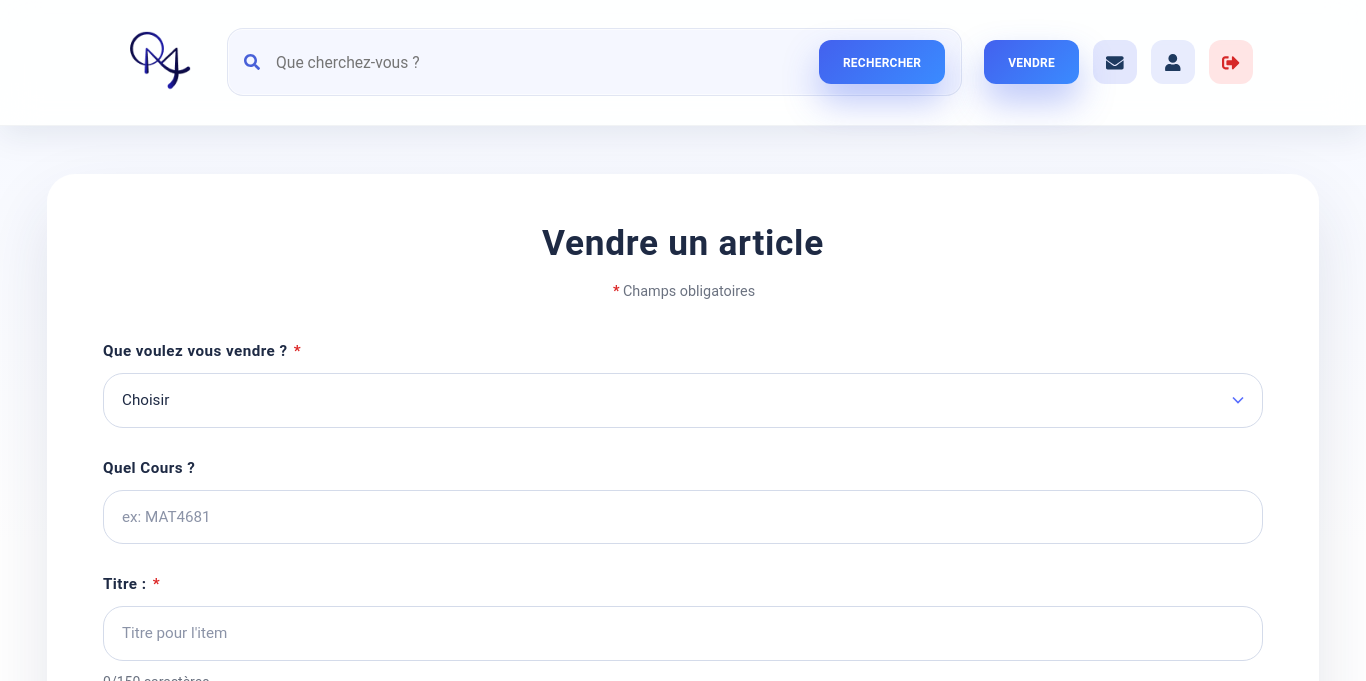
it: Sell page › affiche un message d'erreur si createListing échoue
Select "Manuel scolaire" in the dropdown below "Que voulez vous vendre ?". click: (683,400)
box: [103,373,1263,428]
(page scrolled)
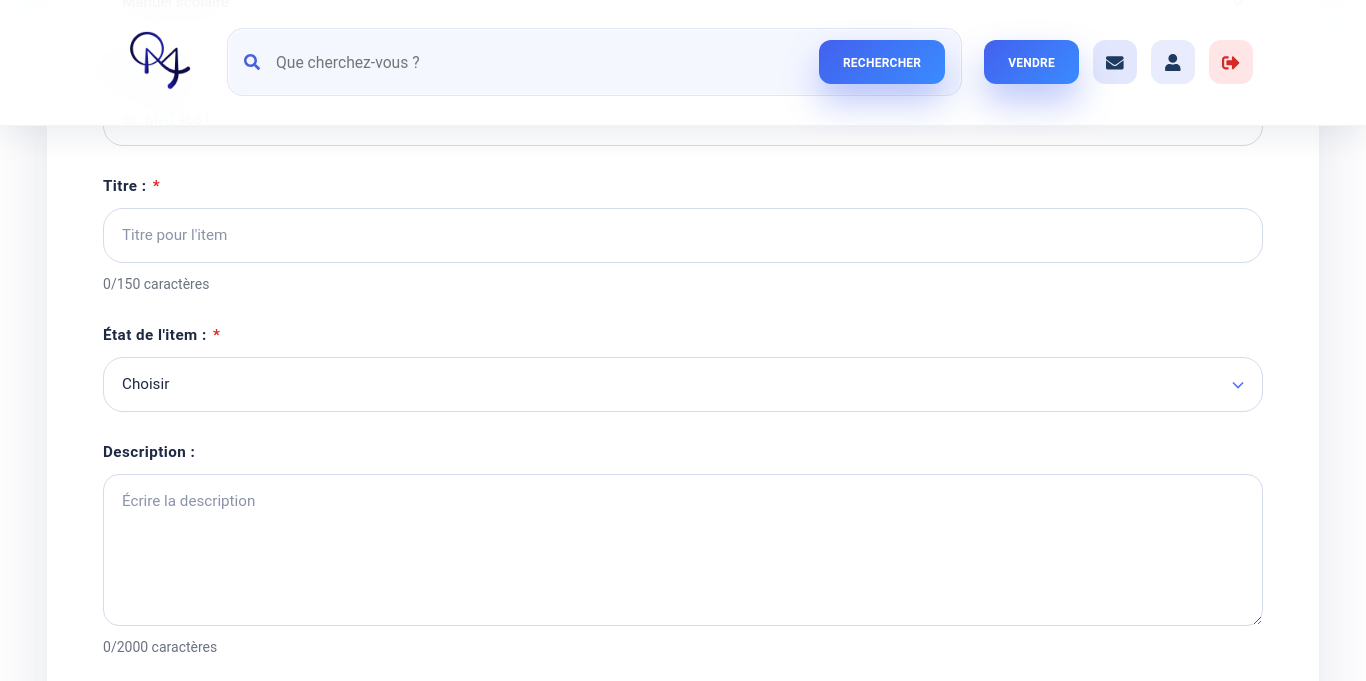
Select "Bon" in the dropdown. click: (683,385)
box: [103,357,1263,412]
Type "Livre de maths" into the field with placeholder "Titre pour l'item". click: (683,236)
box: [103,208,1263,263]
(page scrolled)
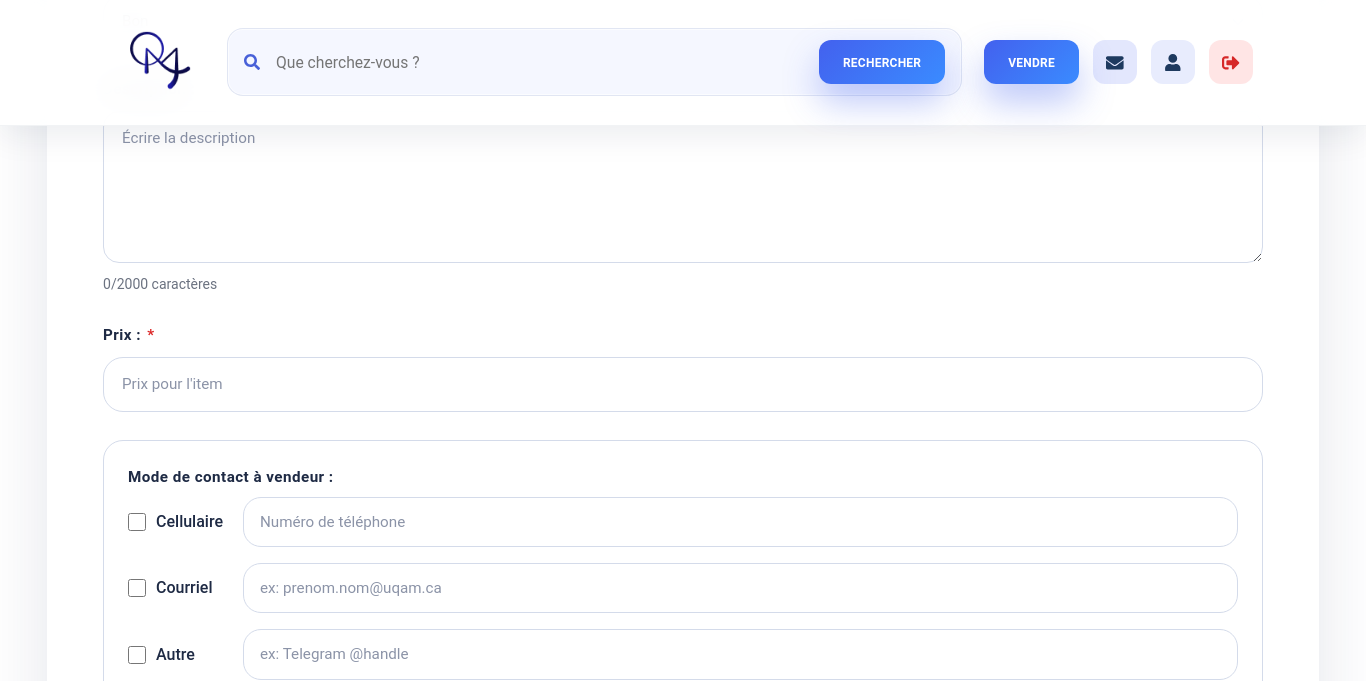
Type "30" into the field with placeholder "Prix pour l'item". click: (683,384)
box: [103,357,1263,412]
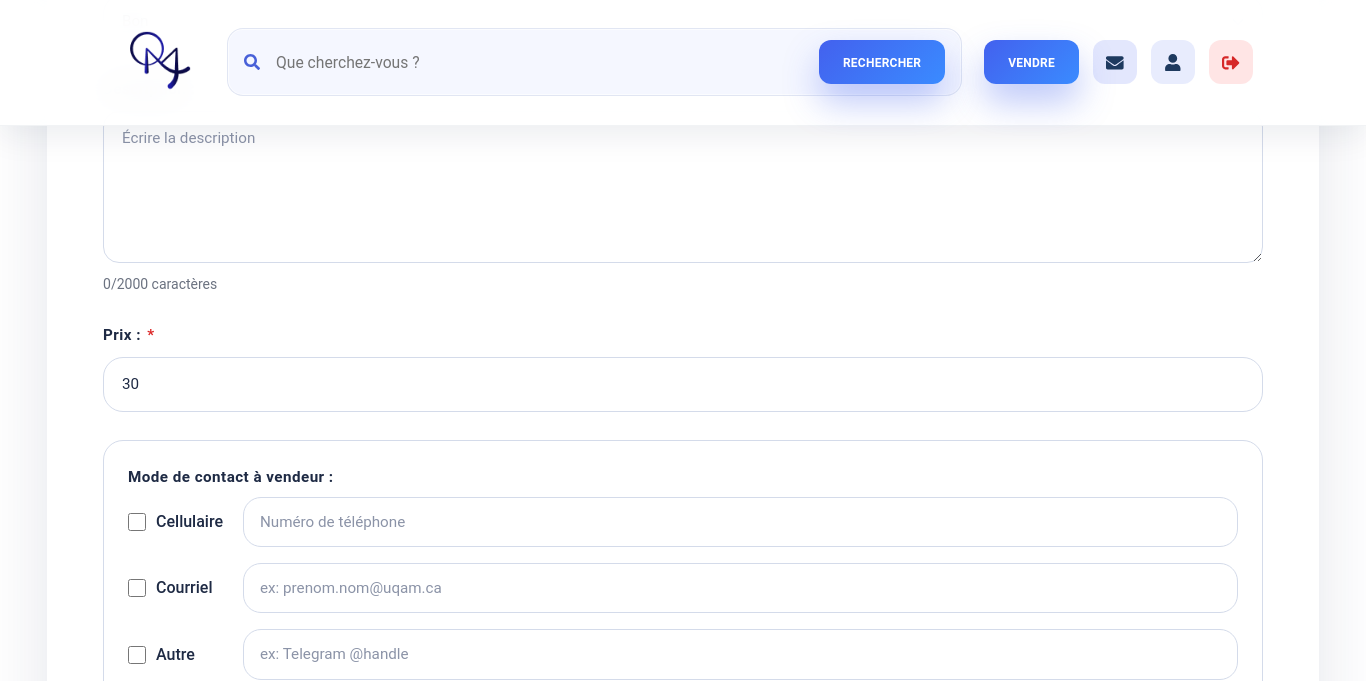
Click the checkbox labelled "Courriel". click: (137,588)
box: [128,579,146,597]
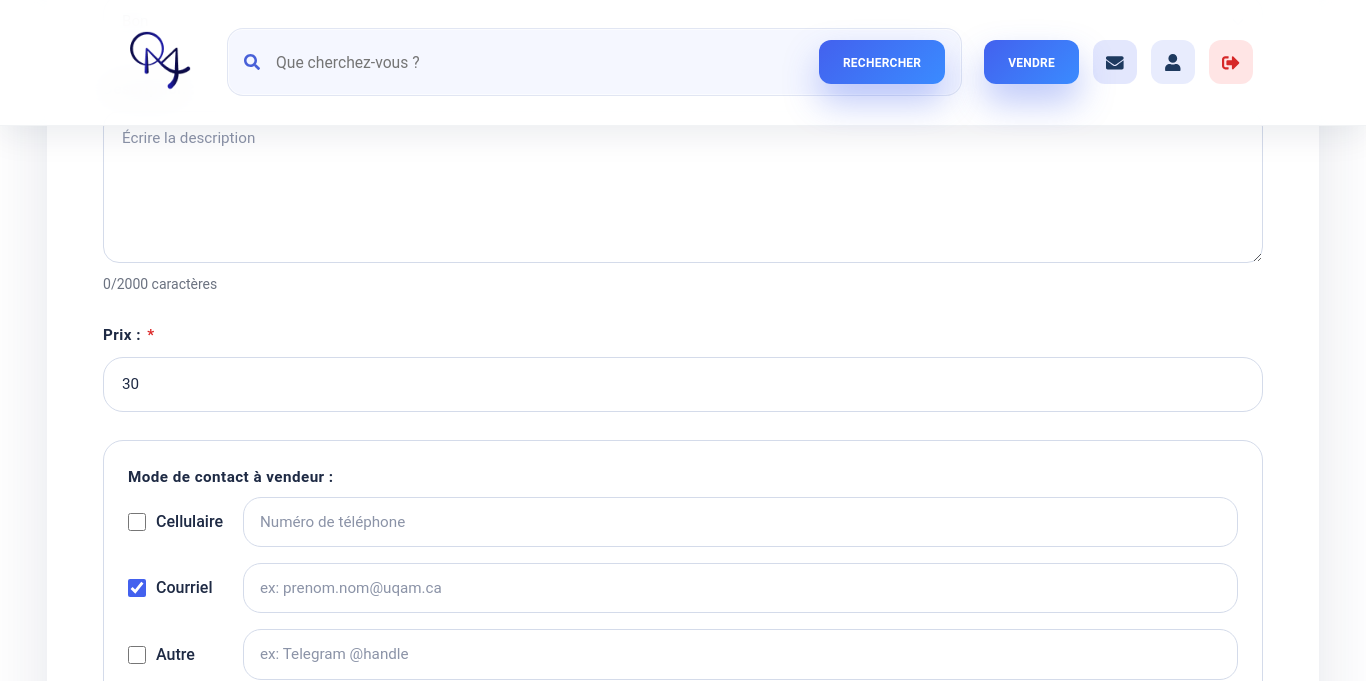
Type "test@uqam.ca" into the field with placeholder "ex: prenom.nom@uqam.ca". click: (740,588)
box: [243,563,1238,613]
(page scrolled)
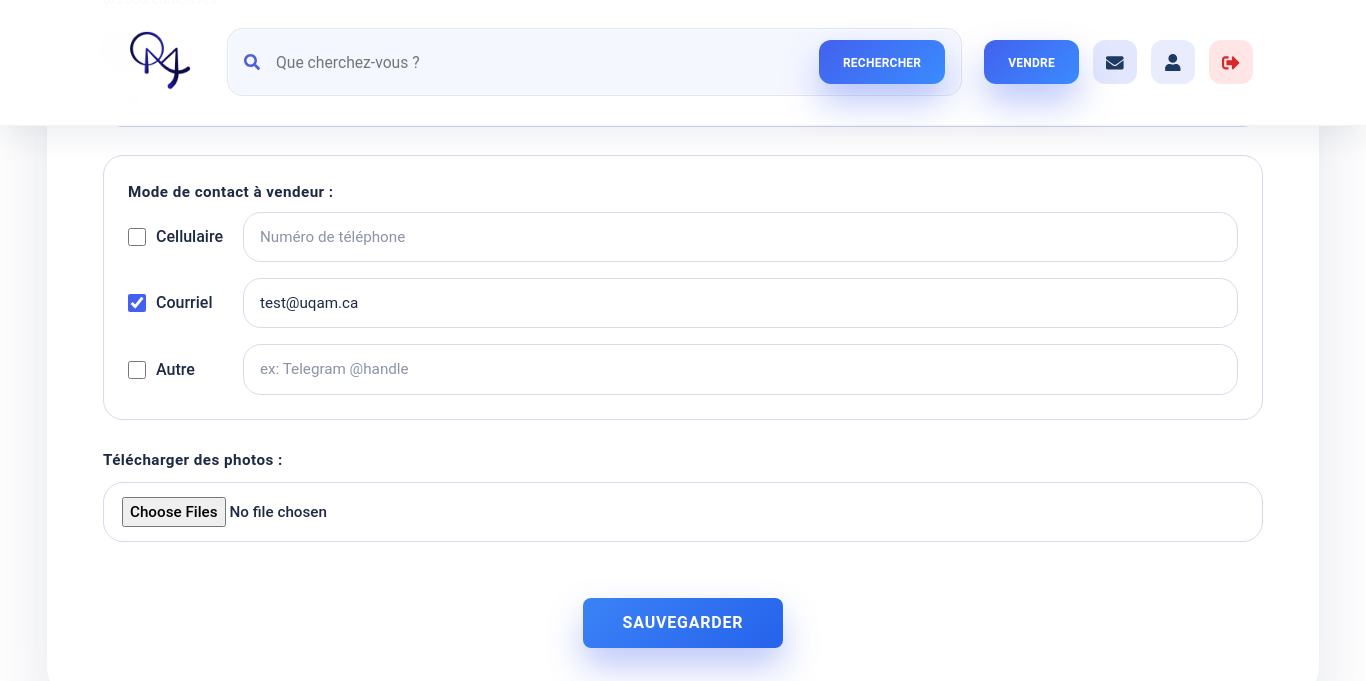
Click the button "Sauvegarder". click: (683,623)
box: [583,598,783,648]
(page scrolled)
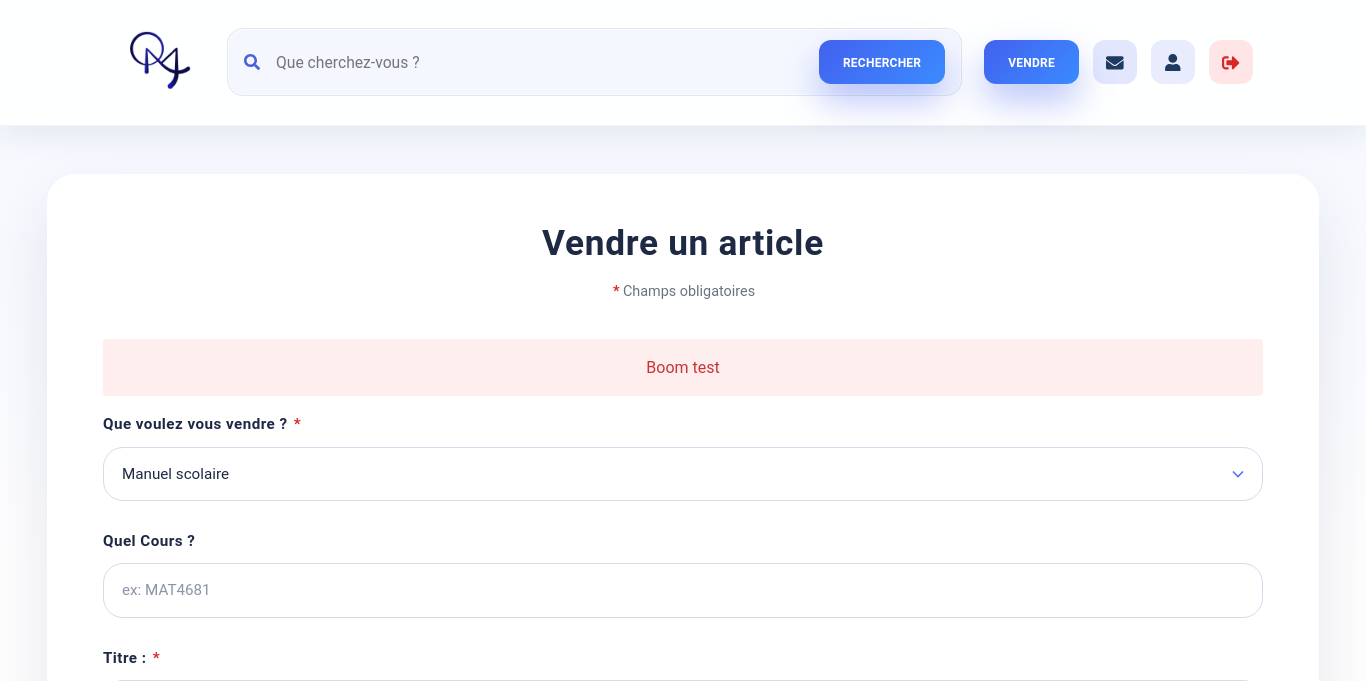
Now the text "Boom test" is shown, box [103,339,1263,396]
